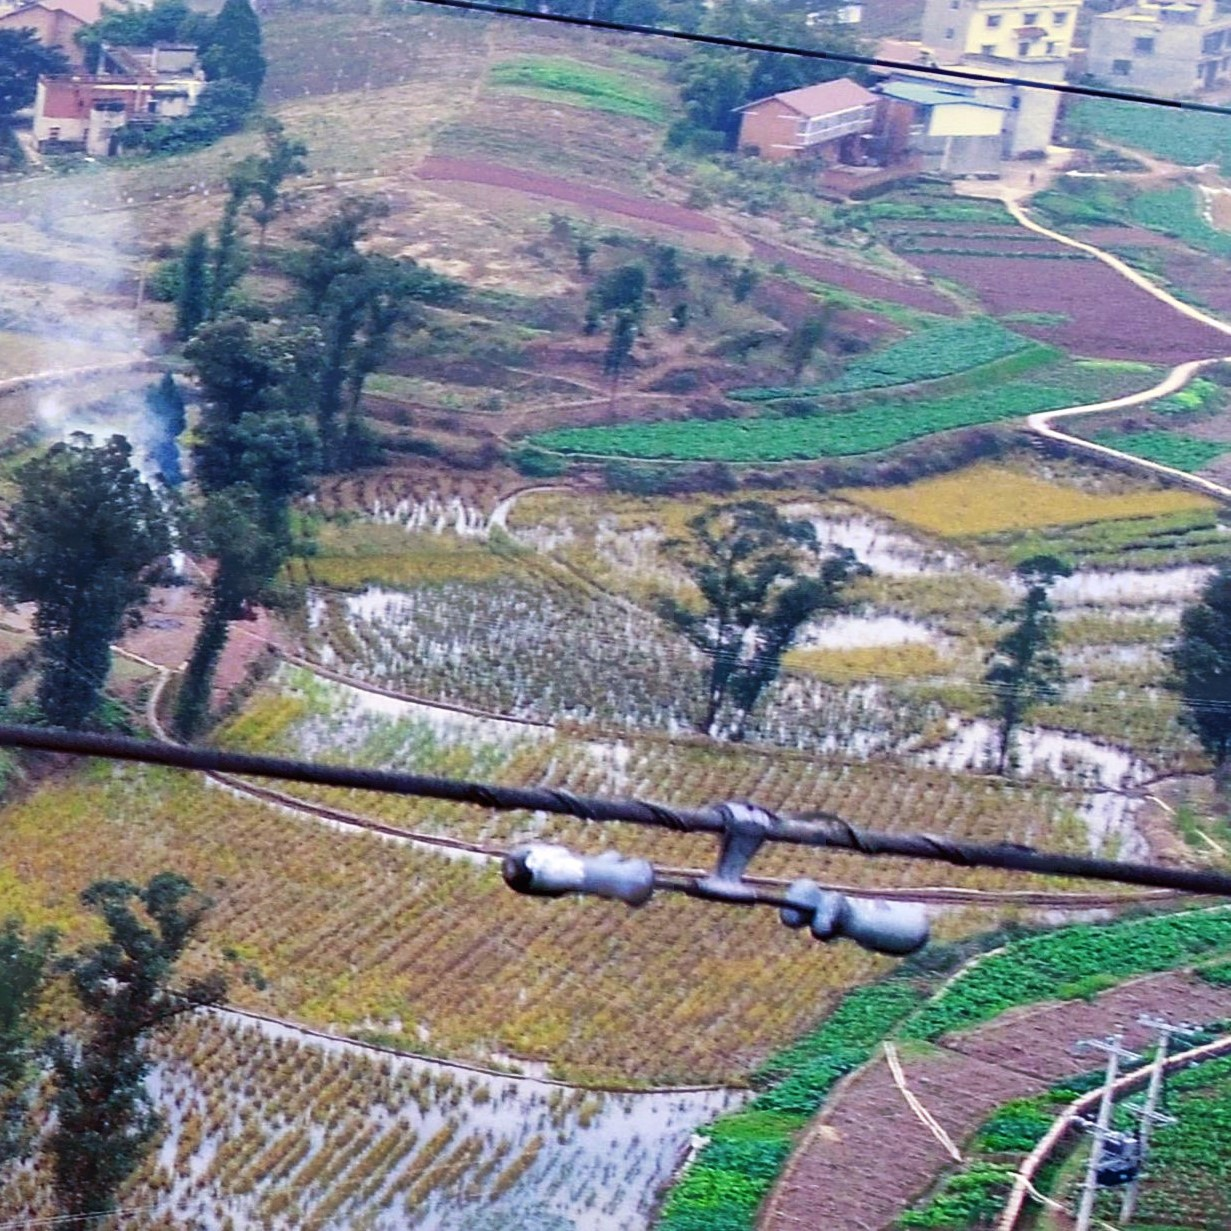Shockproof hammer: (476, 771, 941, 966)
